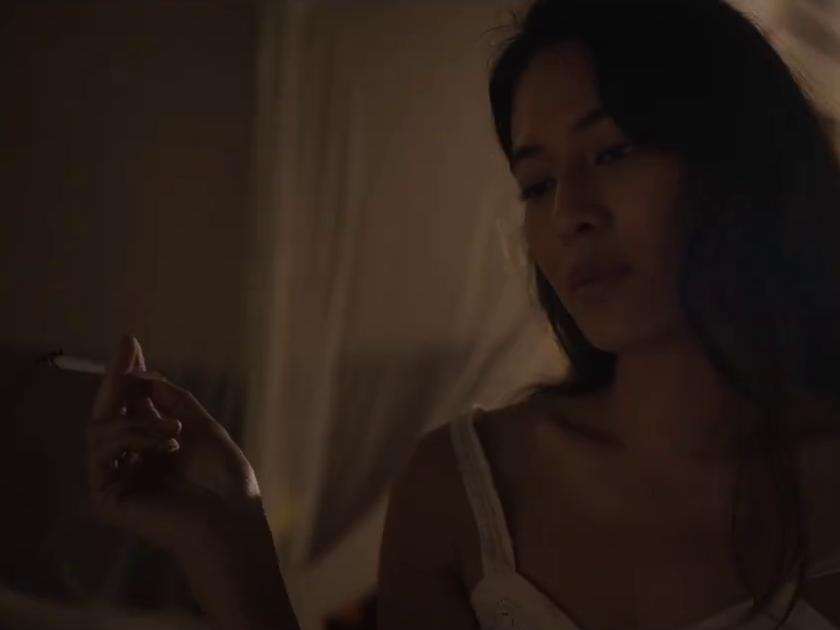cigarette: (36, 345, 165, 386)
